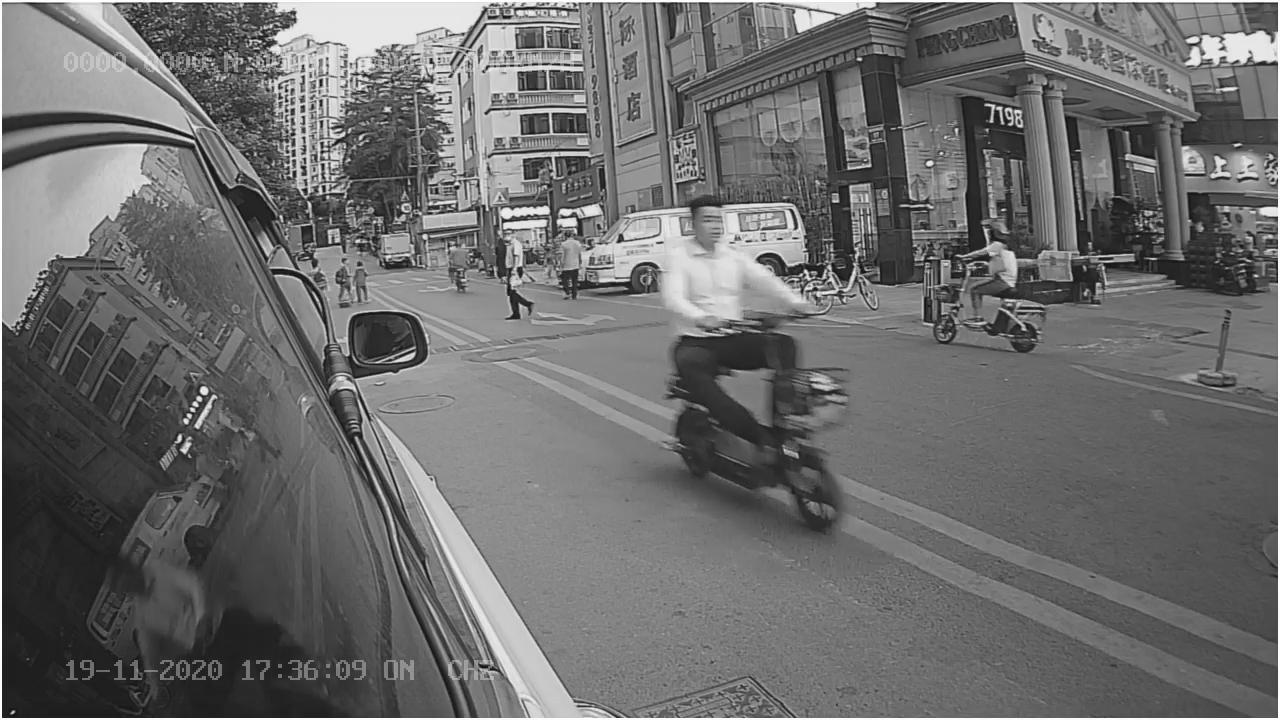person: (665, 200, 766, 319)
